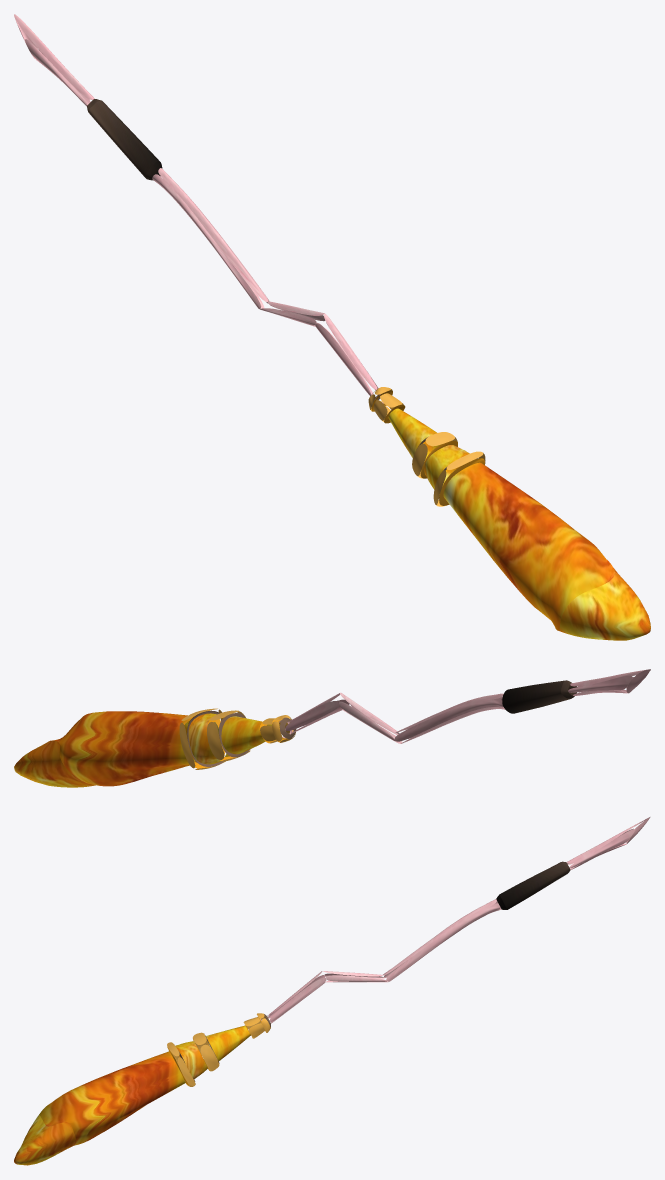
Rendered from pinkFire.glb.
The picture shows the model from 3 angles, top to bottom: view 1: azimuth 30°, elevation 25°; view 2: azimuth 210°, elevation 25°; view 3: azimuth 270°, elevation 25°; orthographic projection. The views are drawn at different scales.
Parts seen in each view (by area): view 1: MainStick; view 2: MainStick; view 3: MainStick.
Boxes of the visible parts, bbox=[...] form: MainStick: bbox=[14, 14, 650, 640]; MainStick: bbox=[14, 669, 650, 787]; MainStick: bbox=[14, 817, 650, 1165].
Size of the model in its own units: 4.77 by 7.8 by 16.2.
1 material, 1 textured.
